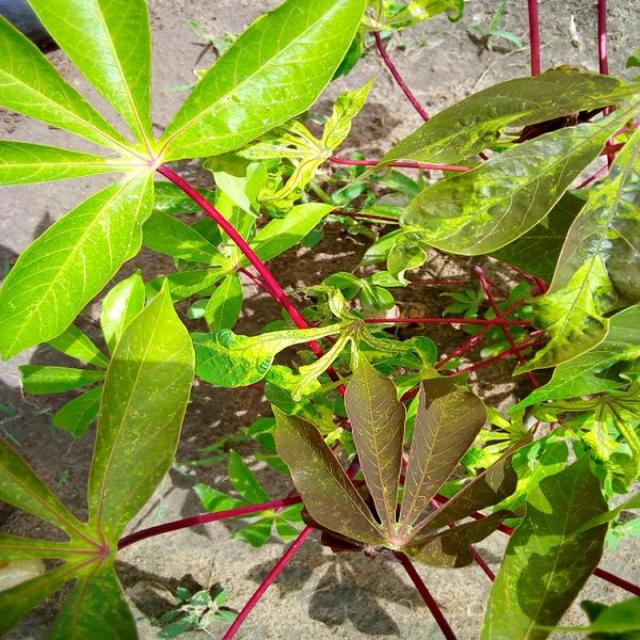cassava leaf: (0, 0, 368, 362), (157, 0, 366, 163), (398, 111, 624, 257), (86, 275, 195, 547), (0, 169, 154, 361), (480, 450, 610, 638)
